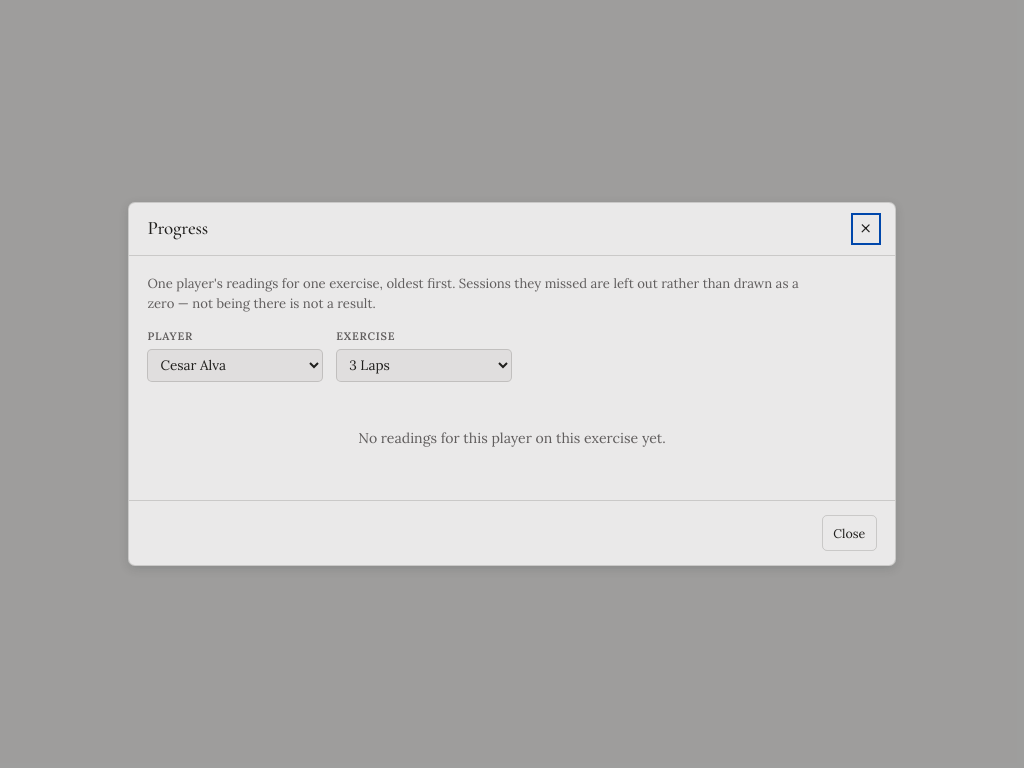
Test: a sprint › states the trend in decimal seconds
This screenshot has width=1024, height=768.
Select "40m Sprint" in the dropdown labelled "Exercise" at (424, 365), box [336,349,512,382]
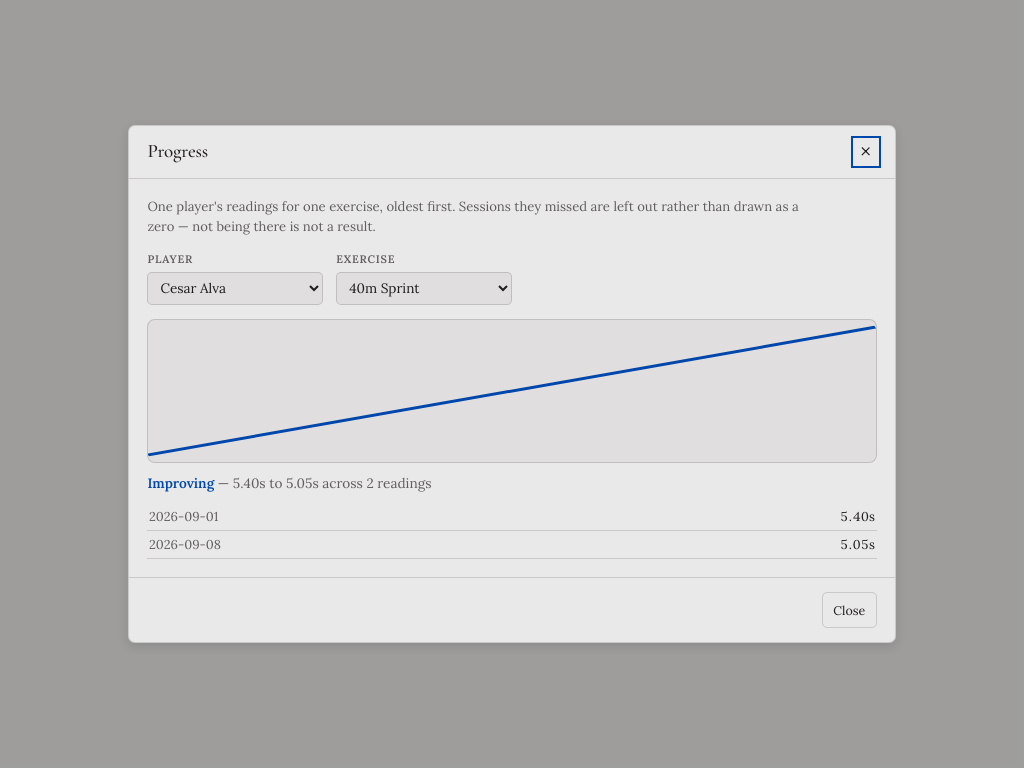
Expected: the element showing "Improving — 5.40s to 5.05s across 2 readings" is shown, [147,474,432,492]
